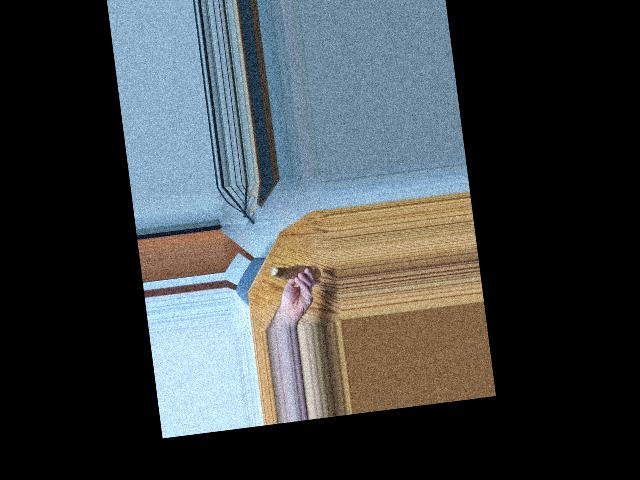sweet_potato: (266, 262, 321, 284)
